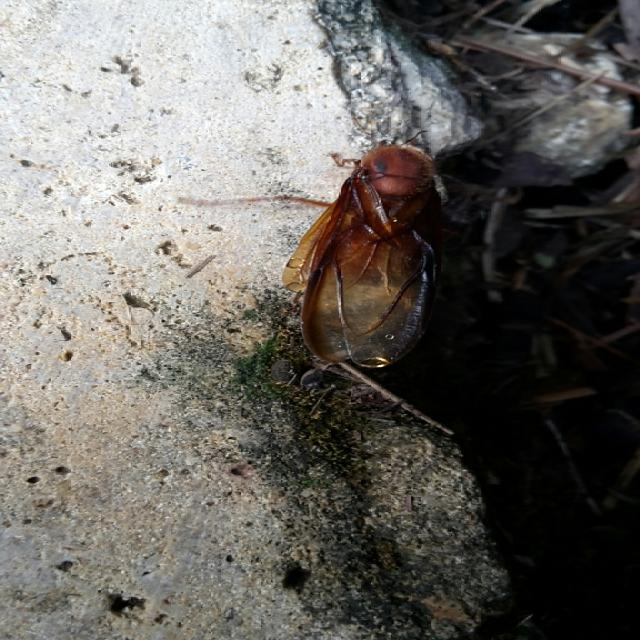Alive-Male-Alate: (177, 117, 438, 369)
